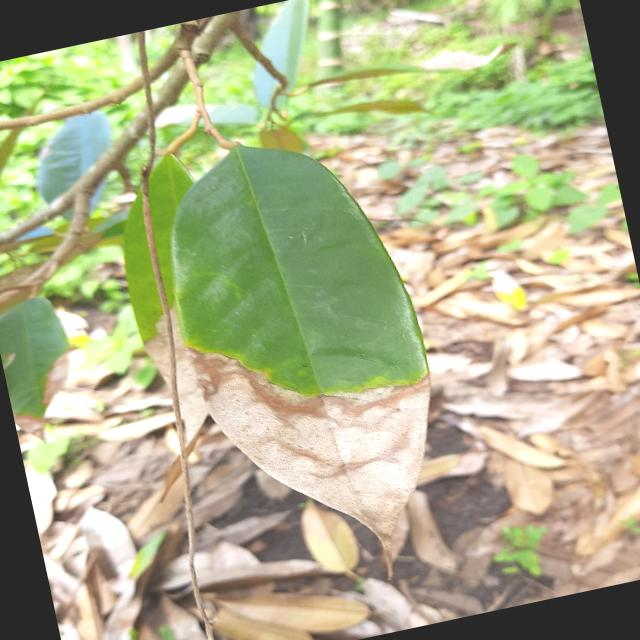Leaf Blight: (93, 101, 476, 628)
